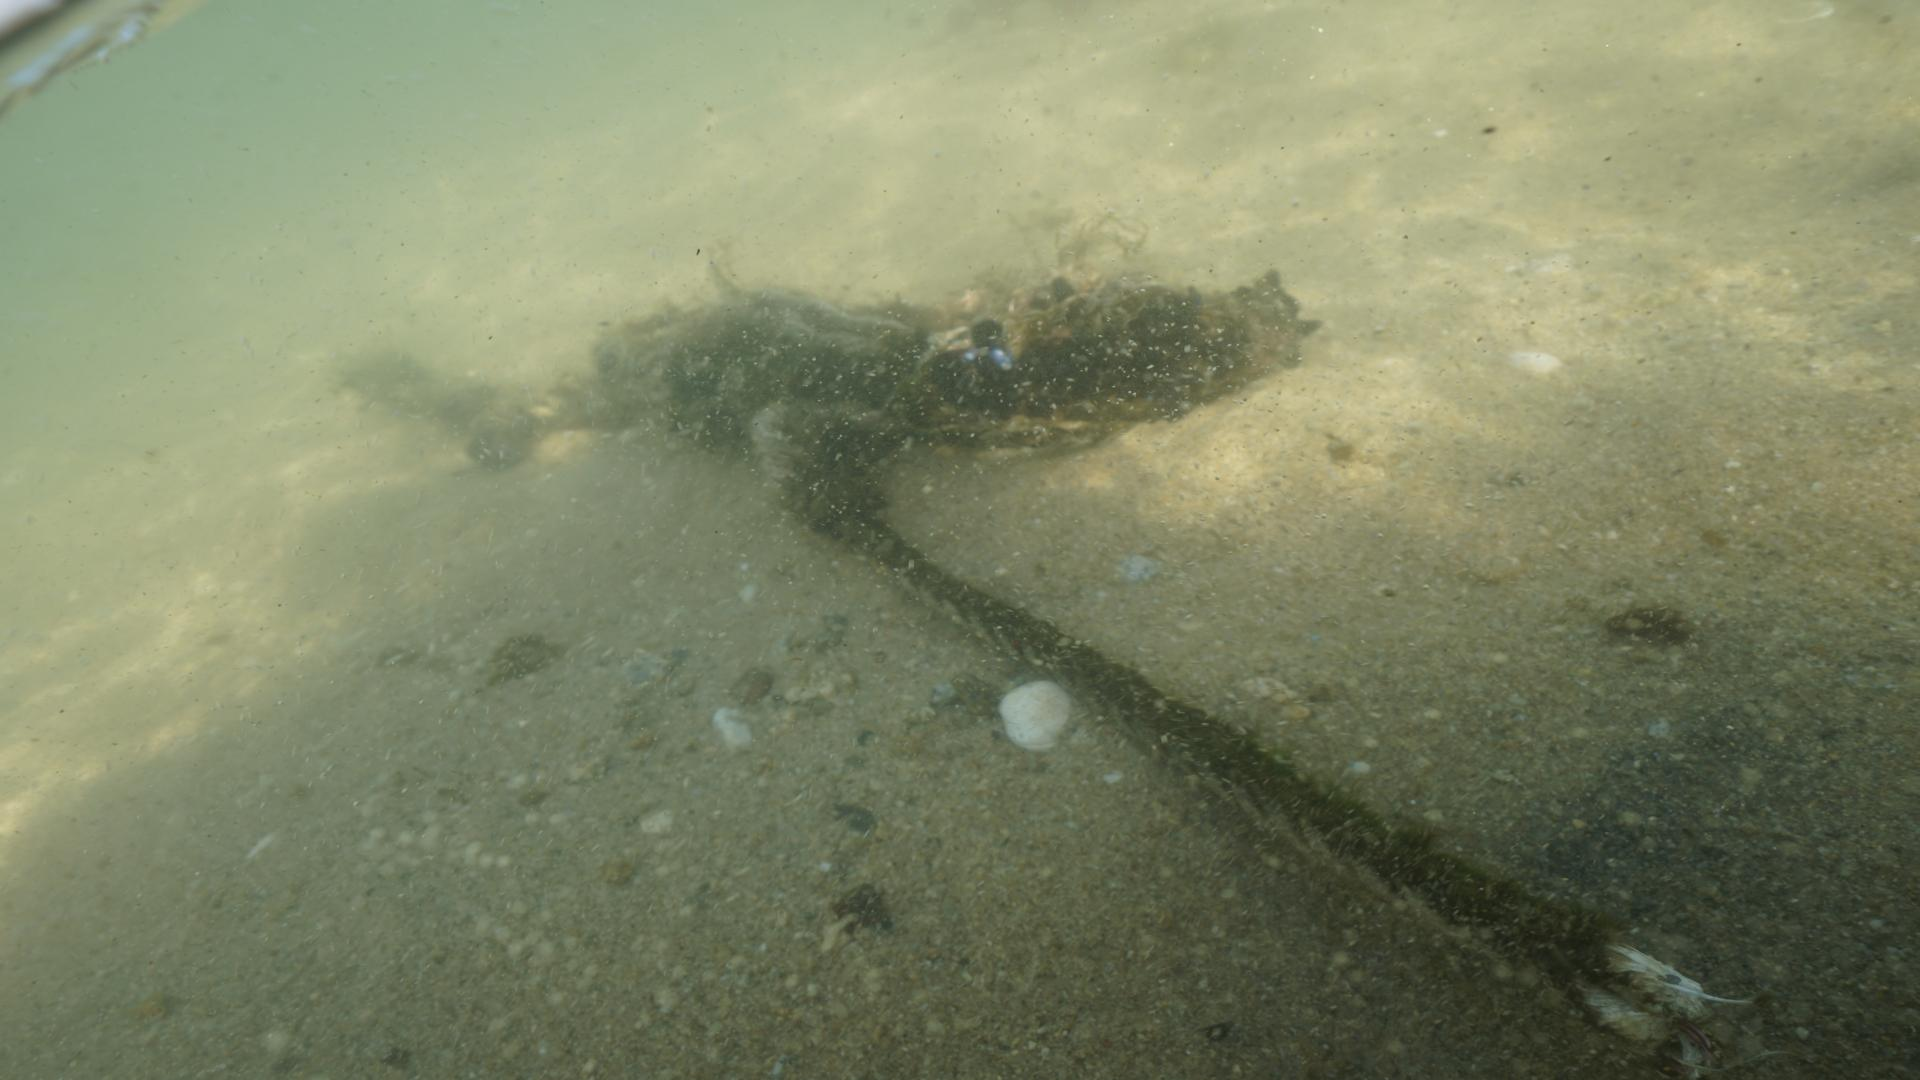bundle of ropes: (464, 272, 1697, 1059)
